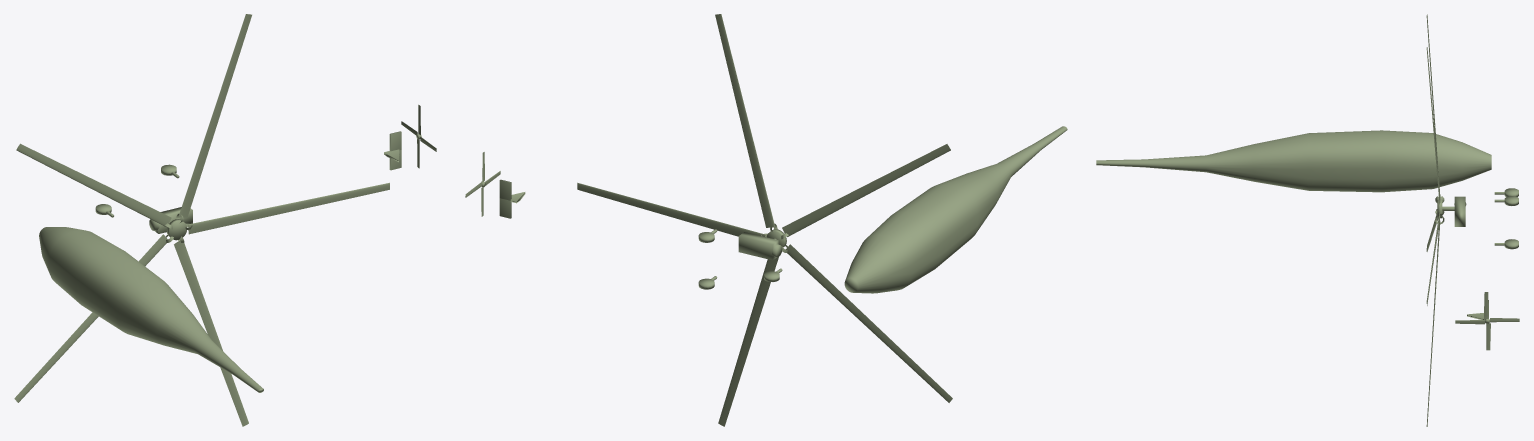
The model's file is uh169b_normal.glb.
The picture shows the model from 3 angles, left to right: view 1: azimuth 30°, elevation 25°; view 2: azimuth 150°, elevation 25°; view 3: azimuth 270°, elevation 25°; orthographic projection. The views are drawn at different scales.
Size of the model in its own units: 12.78 by 11.47 by 11.56.
